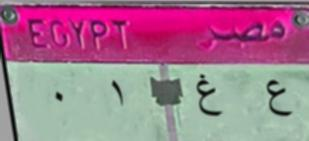0: (47, 85, 71, 112)
1: (107, 75, 134, 111)
ain: (257, 76, 291, 123)
ghayn: (191, 72, 224, 124)
